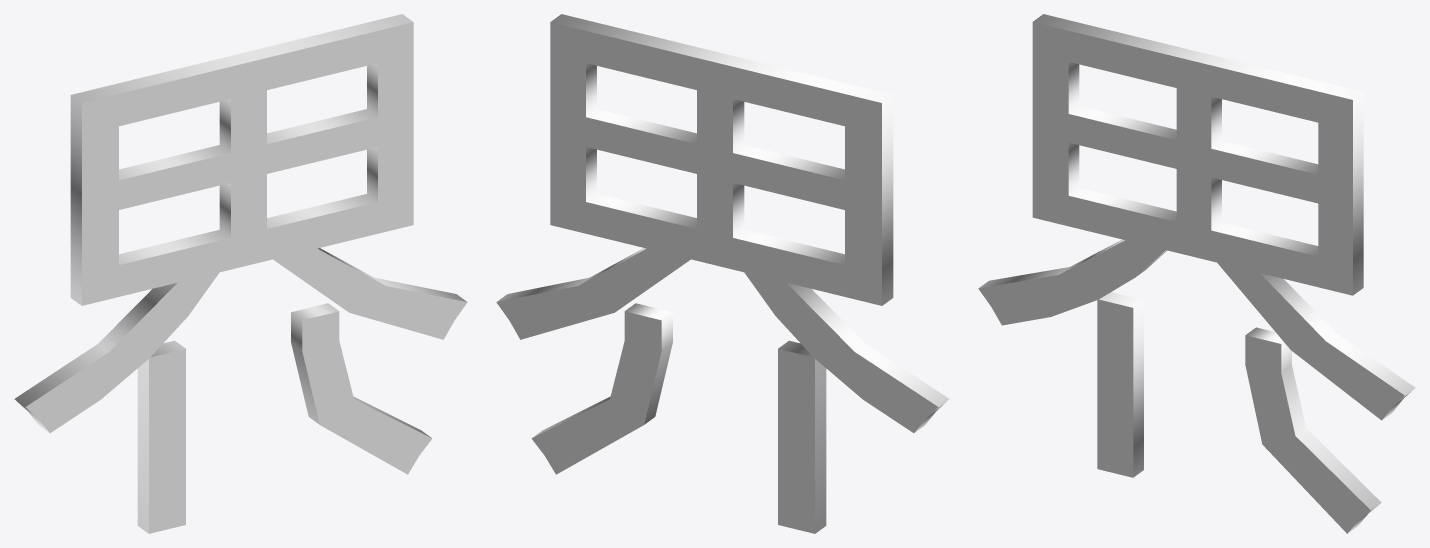
Rendered from Kai.obj.
3 views of the same model, side by side, from view 1: azimuth 30°, elevation 25°; view 2: azimuth 150°, elevation 25°; view 3: azimuth 330°, elevation 25° (orthographic). The views are drawn at different scales.
Visible parts, largest first — view 1: テキスト; view 2: テキスト; view 3: テキスト.
Boxes of the visible parts, x1,y1,x2,y2 form: テキスト: [14, 14, 467, 533]; テキスト: [496, 14, 949, 533]; テキスト: [978, 14, 1415, 533].
Size of the model in its own units: 0.917 by 0.894 by 0.04.
Materials: 1 (1 with a texture image).
